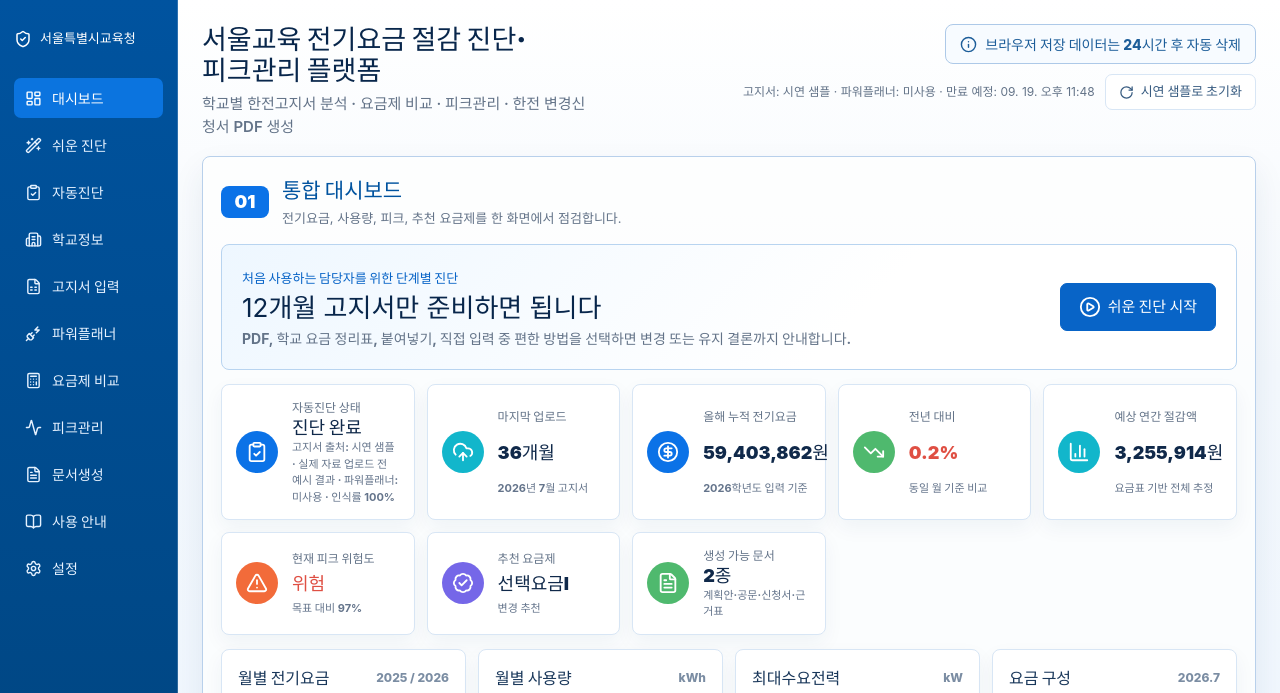
data provenance persistence › restores calculation mode and factors from the active snapshot
Click the button "설정". click: coordinates (88, 568)
box: x1=14 y1=548 x2=163 y2=588
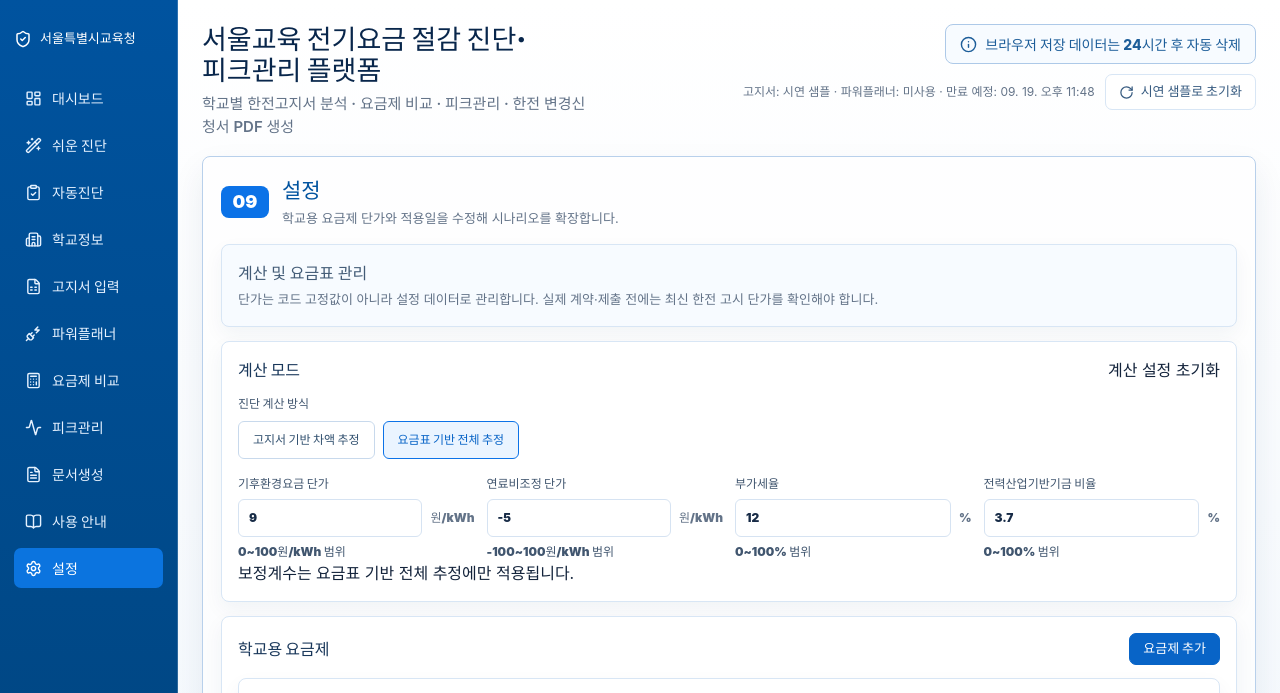
Expected: the radio button labelled "요금표 기반 전체 추정" is checked, x1=382 y1=421 x2=519 y2=459
Expected: the number field named "부가세율(%)" holds "12", x1=735 y1=499 x2=951 y2=537
